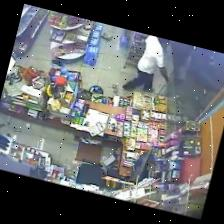person: (123, 35, 168, 91)
